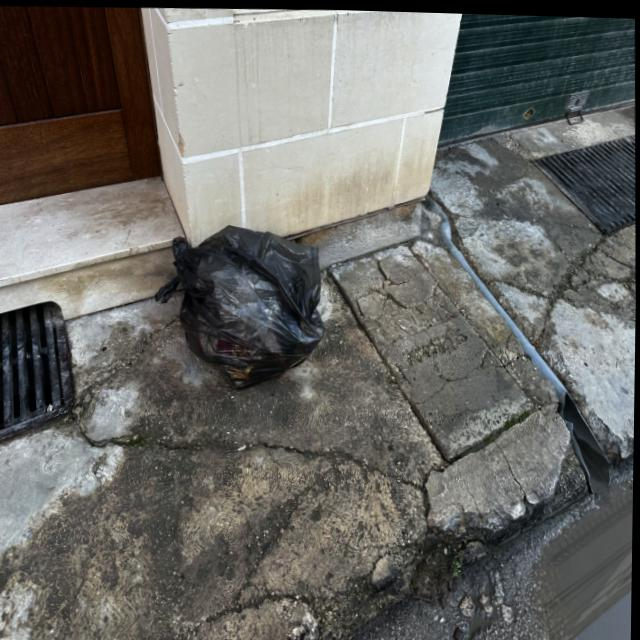Mixed Waste -Black Bags-: (156, 223, 326, 389)
